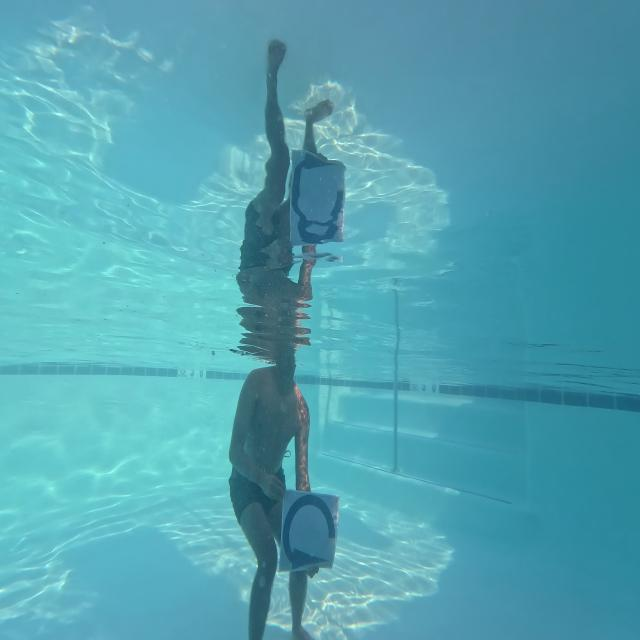blue_side: (274, 483, 342, 579)
